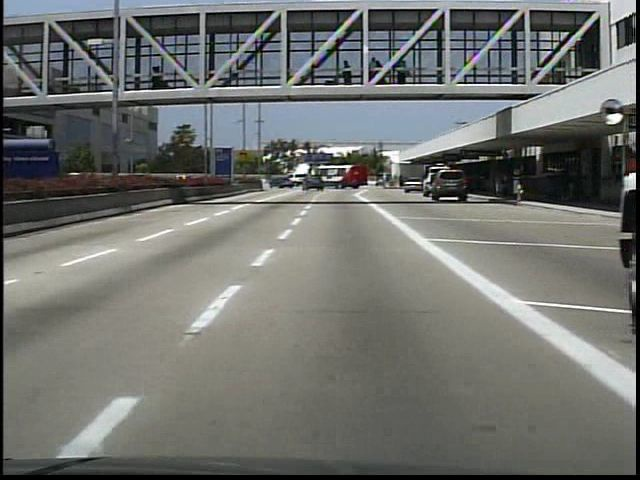person: (337, 56, 356, 89), (490, 168, 508, 200), (150, 63, 169, 92)
